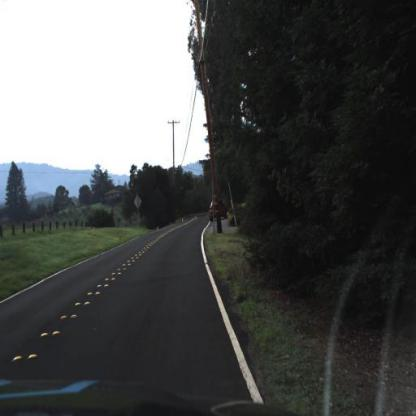car: (209, 196, 230, 225)
